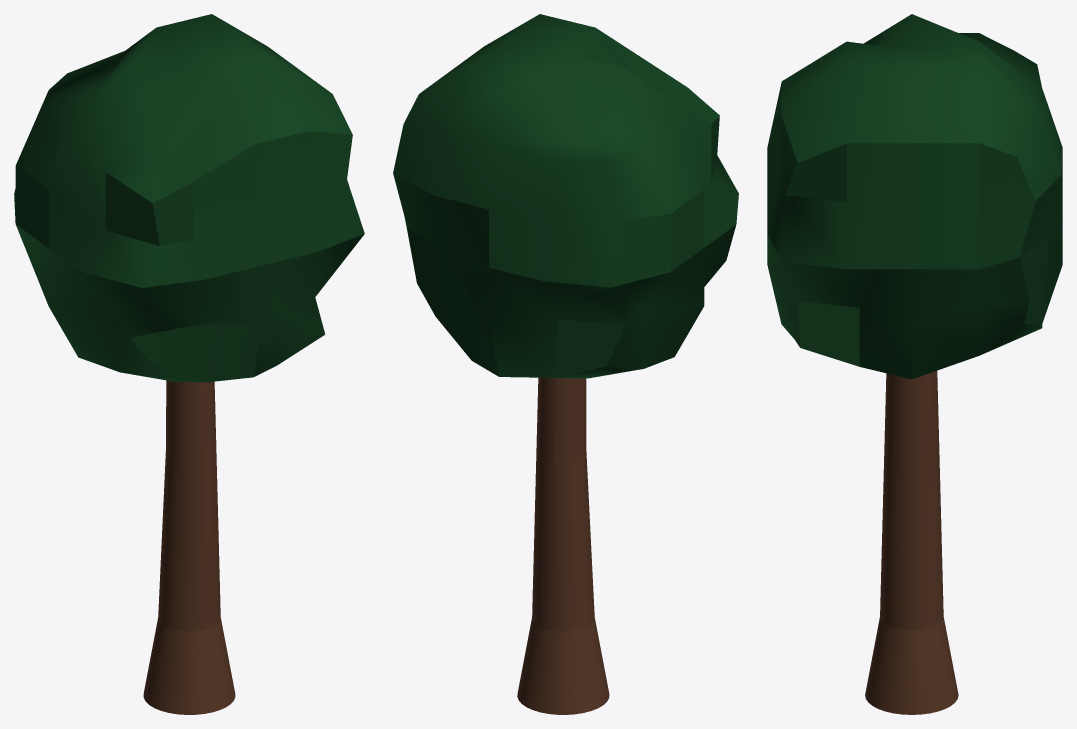
File: combatTree.fbx
3 views of the same model, side by side, from view 1: azimuth 30°, elevation 25°; view 2: azimuth 150°, elevation 25°; view 3: azimuth 270°, elevation 25° (orthographic).
Parts seen in each view (by area): view 1: Cylinder; view 2: Cylinder; view 3: Cylinder.
Boxes of the visible parts, <box> form: Cylinder: <box>14,14,364,714</box>; Cylinder: <box>393,14,738,714</box>; Cylinder: <box>767,14,1062,714</box>.
Bounding box in the file's own units: 682 × 1565 × 640.
